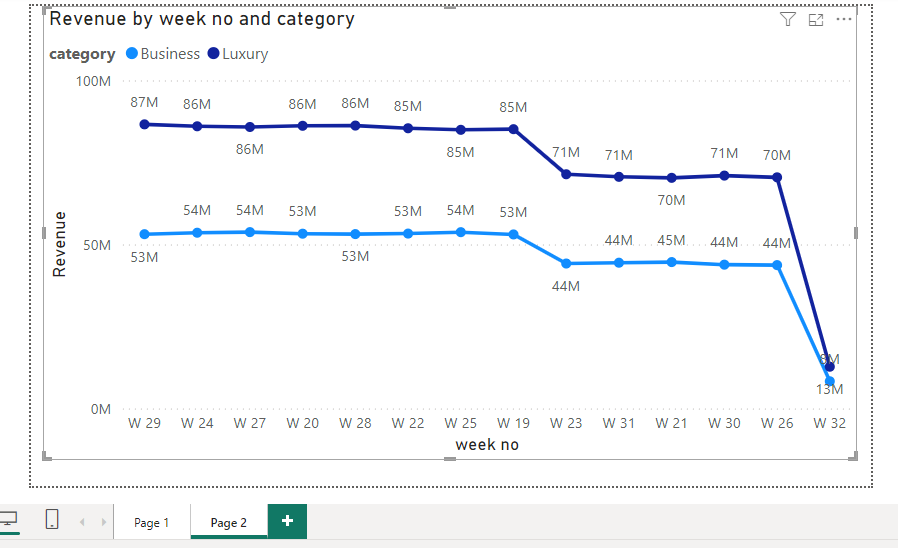

Layout of this report page (visuals, bound fields, positions):
{"tool":"powerbi","page":{"name":"Page 2","canvas":[700,400],"ordinal":1},"visuals":[{"type":"lineChart","fields":{"Y":["measures (2).Revenue"],"Category":["dim_date.week no"],"Series":["dim_hostels.category"]},"box":[10.1,0,678.2,378.7],"z":0}]}

Visuals, with their boxes on the page's 700x400 design canvas (x1, y1, x2, y2). These are canvas units, not pixel positions in the 898x548 screenshot, which may show the page scaled, cropped or inside an application window:
lineChart - measures (2).Revenue x dim_date.week no: Rect(10, 0, 688, 379)
